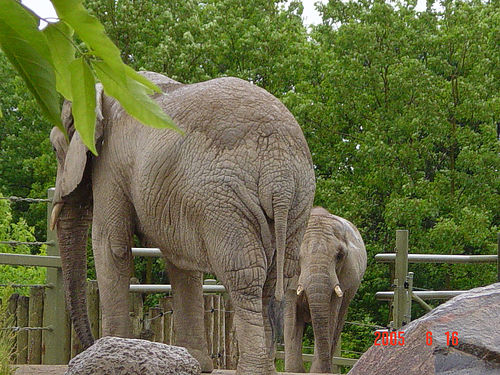elephant: (42, 65, 306, 375), (282, 197, 370, 375)
